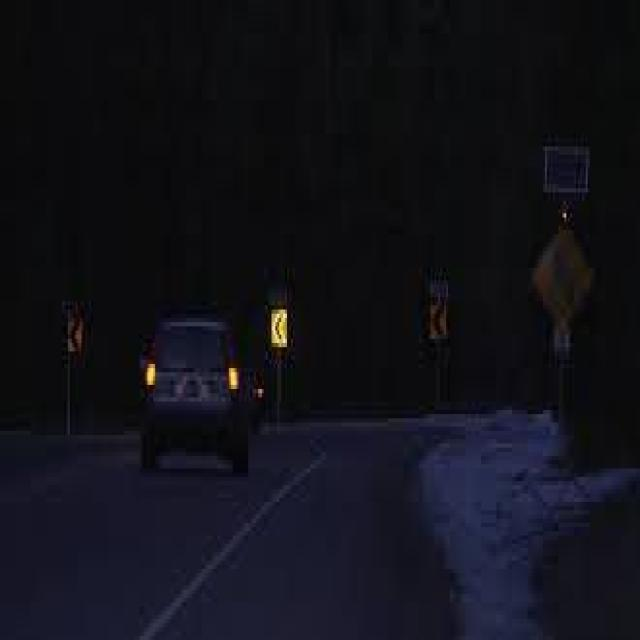chevron_left: (269, 307, 289, 351)
